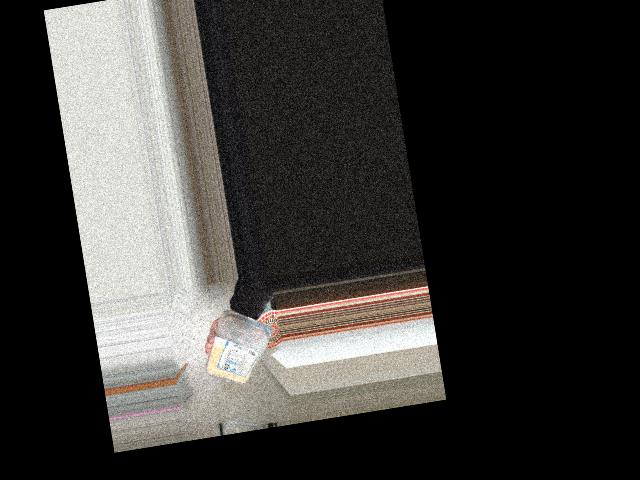cheese: (205, 308, 279, 393)
